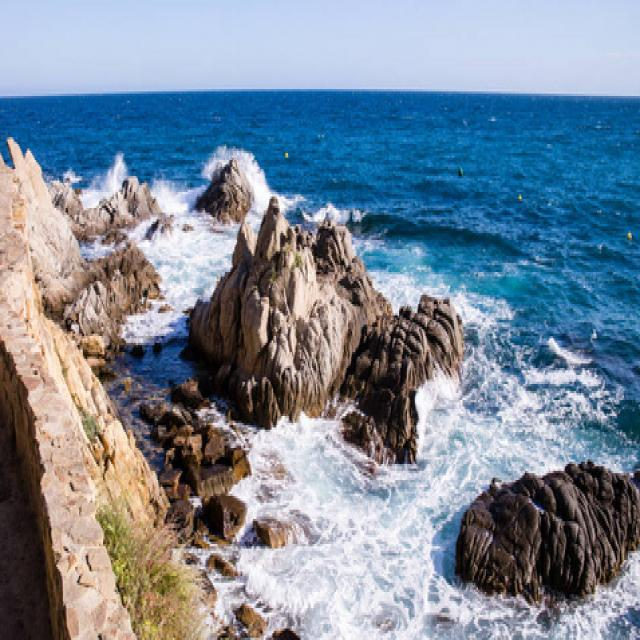reef: (182, 138, 472, 442), (468, 461, 640, 619)
